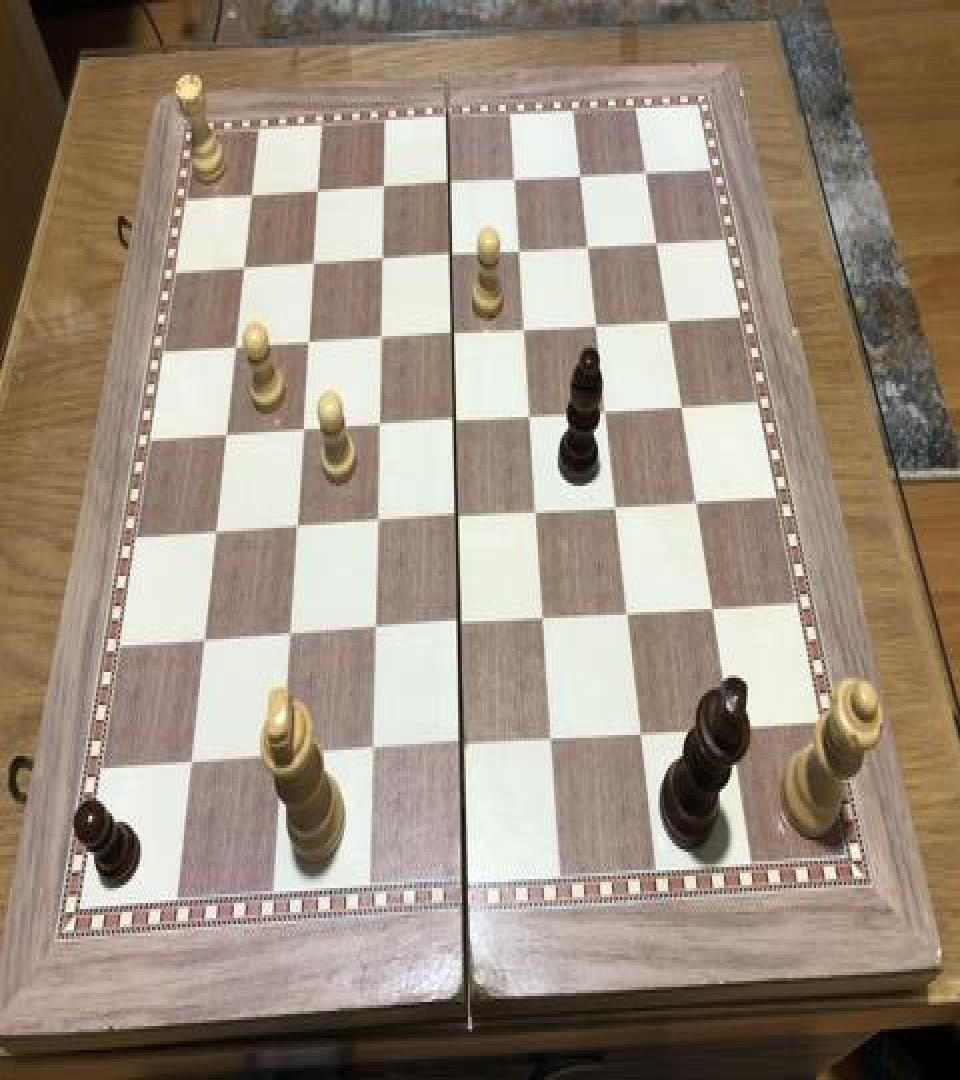xcorner: (205, 514, 229, 551), (703, 586, 727, 623), (365, 610, 389, 647), (633, 712, 657, 749), (543, 718, 567, 755), (363, 733, 387, 770), (635, 153, 659, 189), (570, 158, 594, 194), (505, 160, 529, 196), (440, 165, 464, 201), (374, 168, 398, 204), (242, 176, 266, 212), (646, 224, 670, 260), (578, 228, 602, 264), (510, 231, 534, 267), (441, 236, 465, 272), (373, 240, 397, 276), (303, 244, 327, 280), (234, 249, 258, 285), (658, 300, 682, 336), (587, 304, 611, 340), (515, 309, 539, 345), (443, 314, 467, 350), (371, 320, 395, 356), (298, 324, 322, 360), (671, 386, 695, 422), (596, 390, 620, 426), (521, 396, 545, 432), (445, 400, 469, 436), (369, 406, 393, 442), (293, 411, 317, 447), (216, 416, 240, 452), (686, 480, 710, 516), (607, 486, 631, 522), (528, 492, 552, 528), (448, 496, 472, 532), (368, 502, 392, 538), (287, 508, 311, 544), (619, 592, 643, 628), (535, 598, 559, 634), (451, 604, 475, 640), (280, 618, 304, 654), (194, 624, 218, 660), (721, 705, 745, 741), (454, 726, 478, 762), (272, 741, 296, 777), (181, 747, 205, 783), (308, 173, 332, 208), (225, 329, 249, 364)
